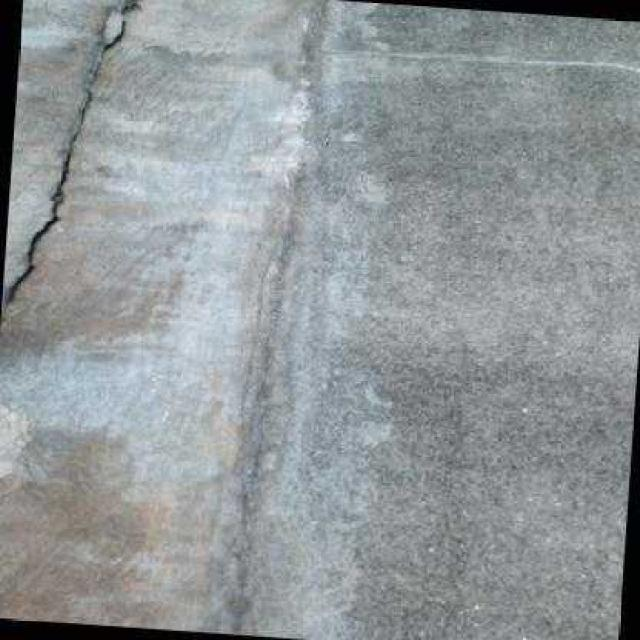D00: (0, 0, 138, 332)
